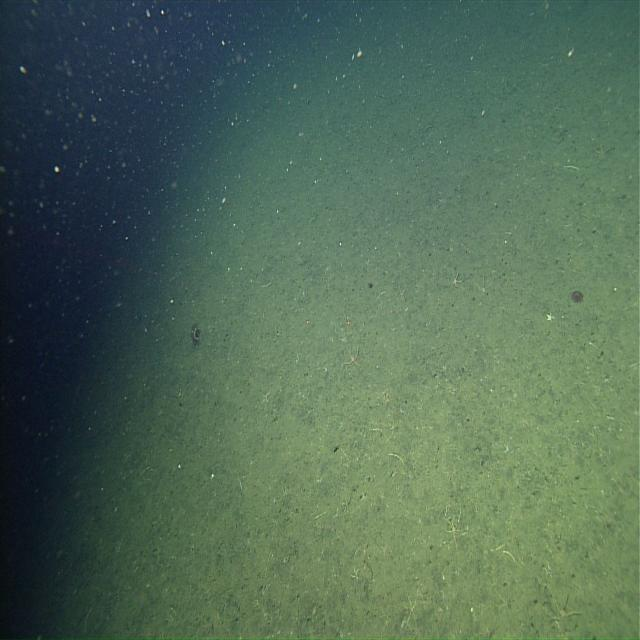Brittle Star: (547, 585, 582, 635), (403, 592, 421, 624), (446, 265, 466, 293)
Not Brittle Star: (570, 288, 585, 306), (545, 309, 555, 324)
